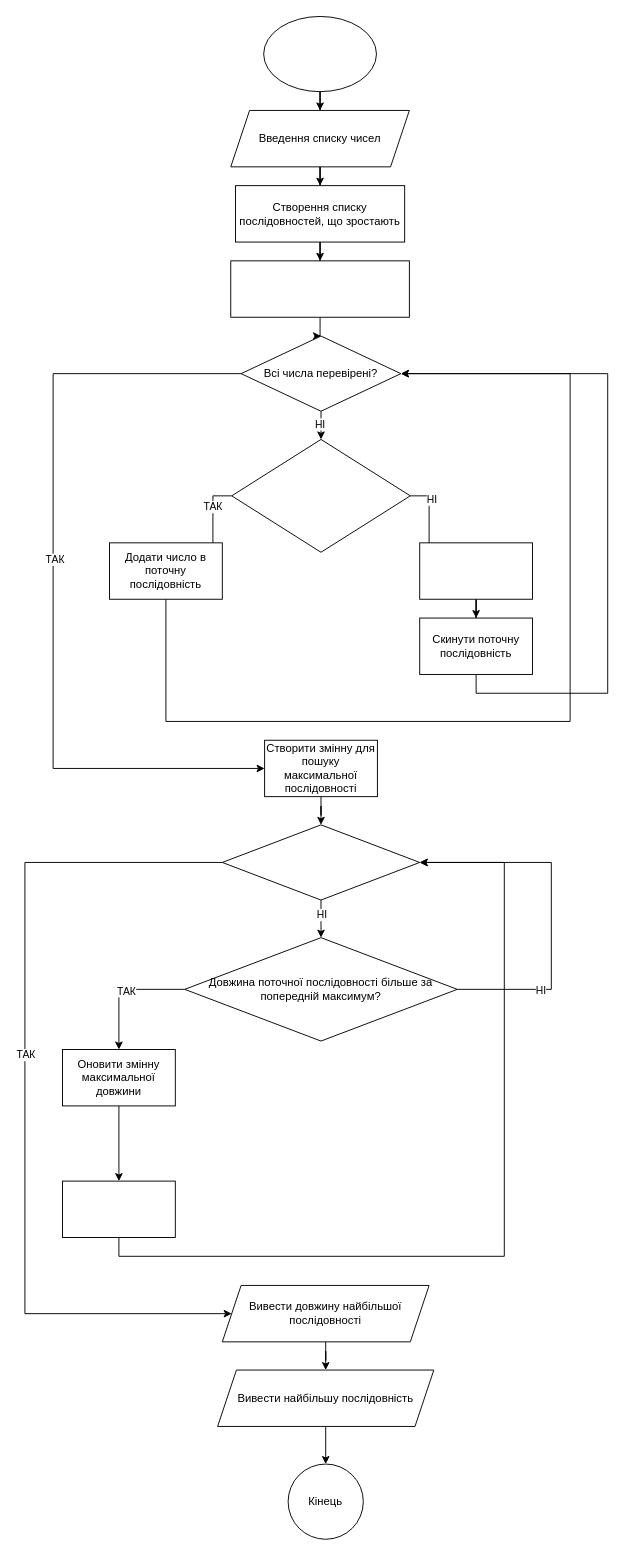
This 632x1556 diagram has some shape labels left out. Here are the shapes that lost their labels. From the top down, the centre of each, then its label:
At [319,54]: "Початок".
At [319,288]: "Створення списку для пошуку послідовностей".
At [320,495]: "Поточне число більше за попереднє?".
At [476,570]: "Додати поточну послідовність в список послідовностей".
At [320,862]: "Всі послідовності перевірені?".
At [118,1209]: "Оновити змінну індексу послідовності".
